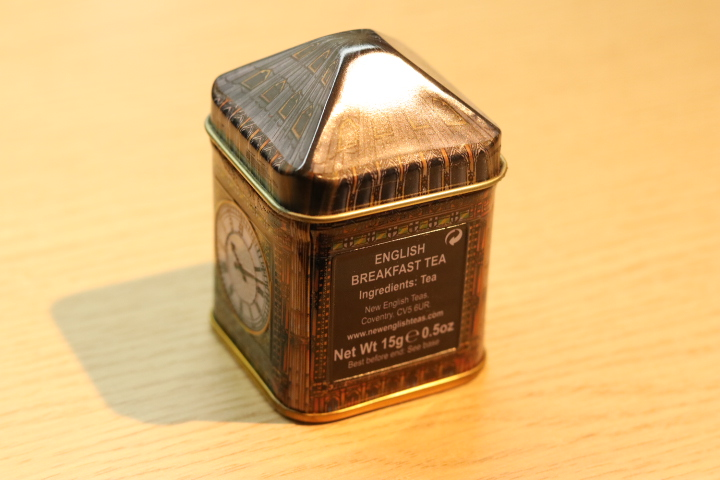Big Ben: (162, 17, 565, 445)
